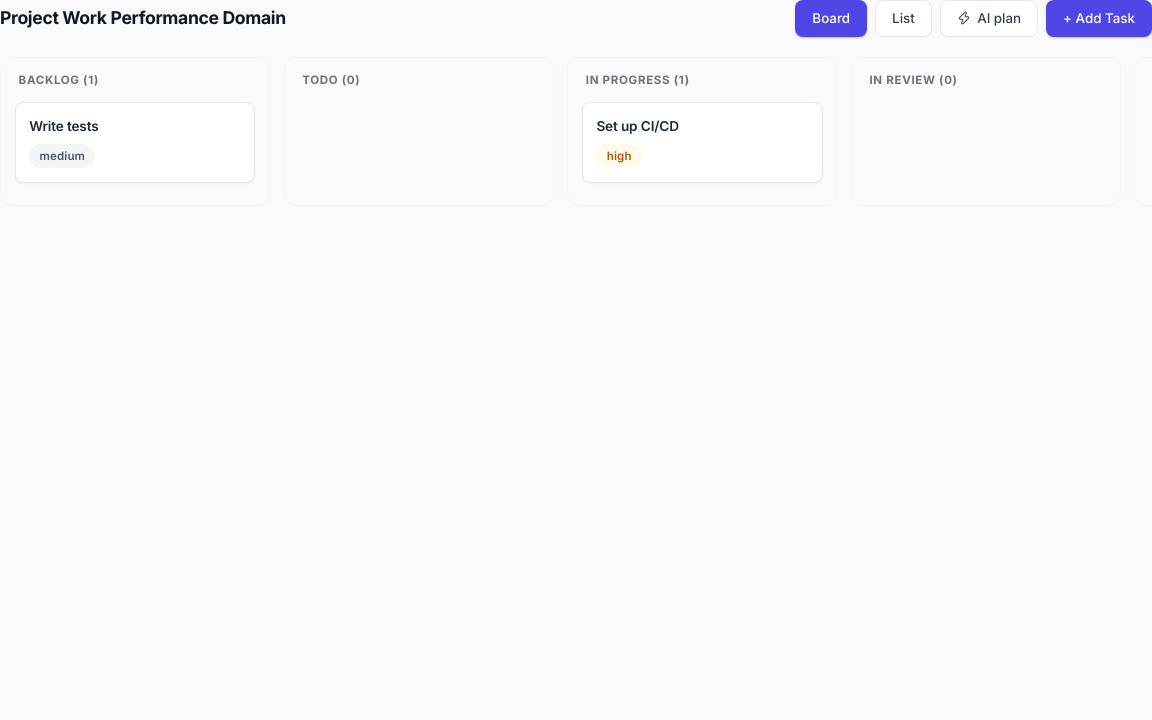
TasksPage › opens create task modal
Click the button "+ Add Task" at (1099, 18), box x1=1046 y1=0 x2=1151 y2=37
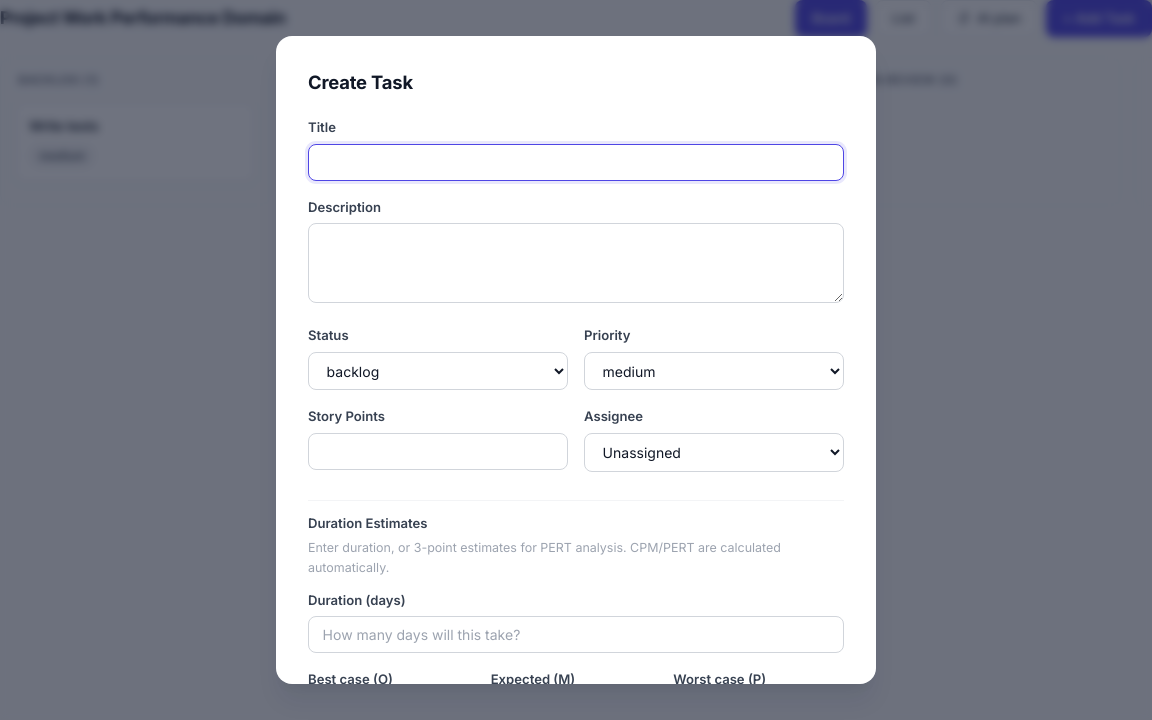
Expected: the heading "Create Task" is shown, x1=308 y1=71 x2=413 y2=93
Expected: the text "Story Points" is shown, x1=308 y1=408 x2=385 y2=424
Expected: the text "Assignee" is shown, x1=584 y1=408 x2=643 y2=424
